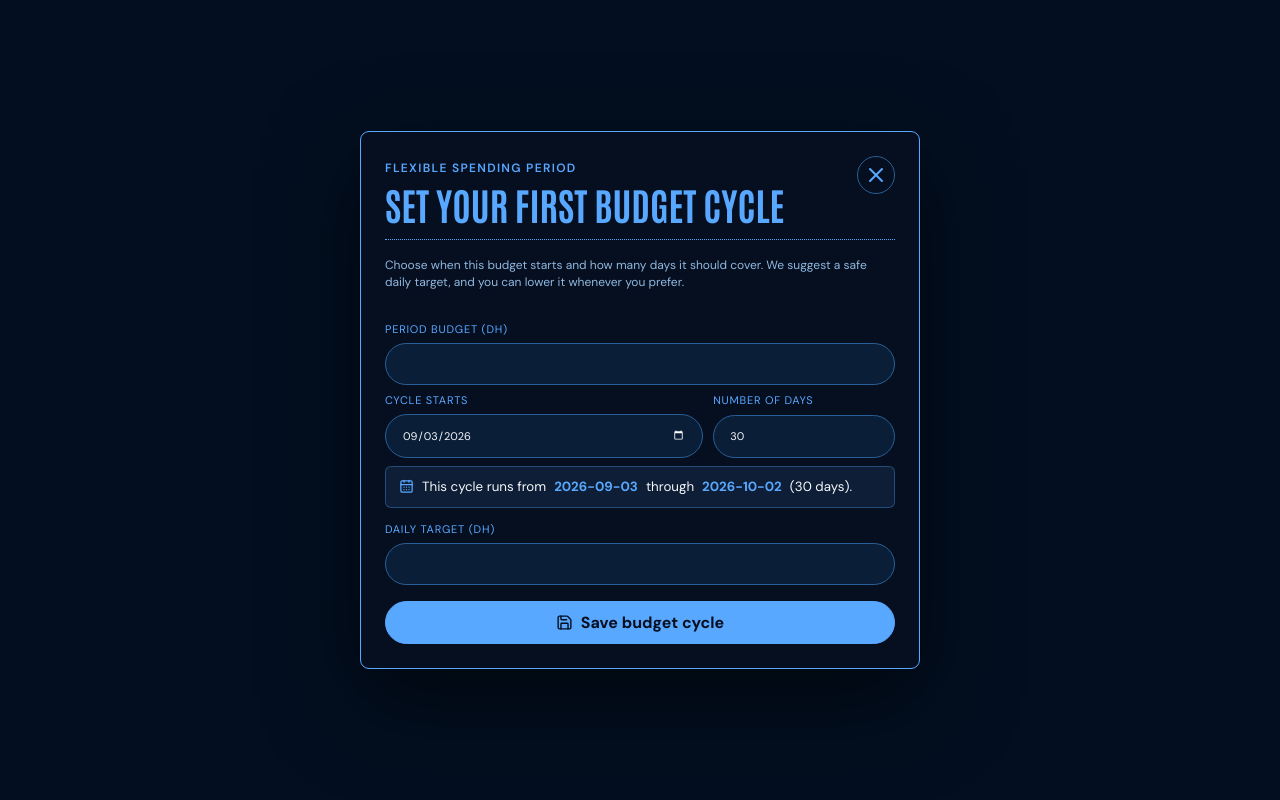
Scenario: budget cycle editor › suggests a safe daily target and blocks a target above the period budget
In the field labelled "Period budget (DH)": (640, 364) 385,343 -> 895,385, type "3000"
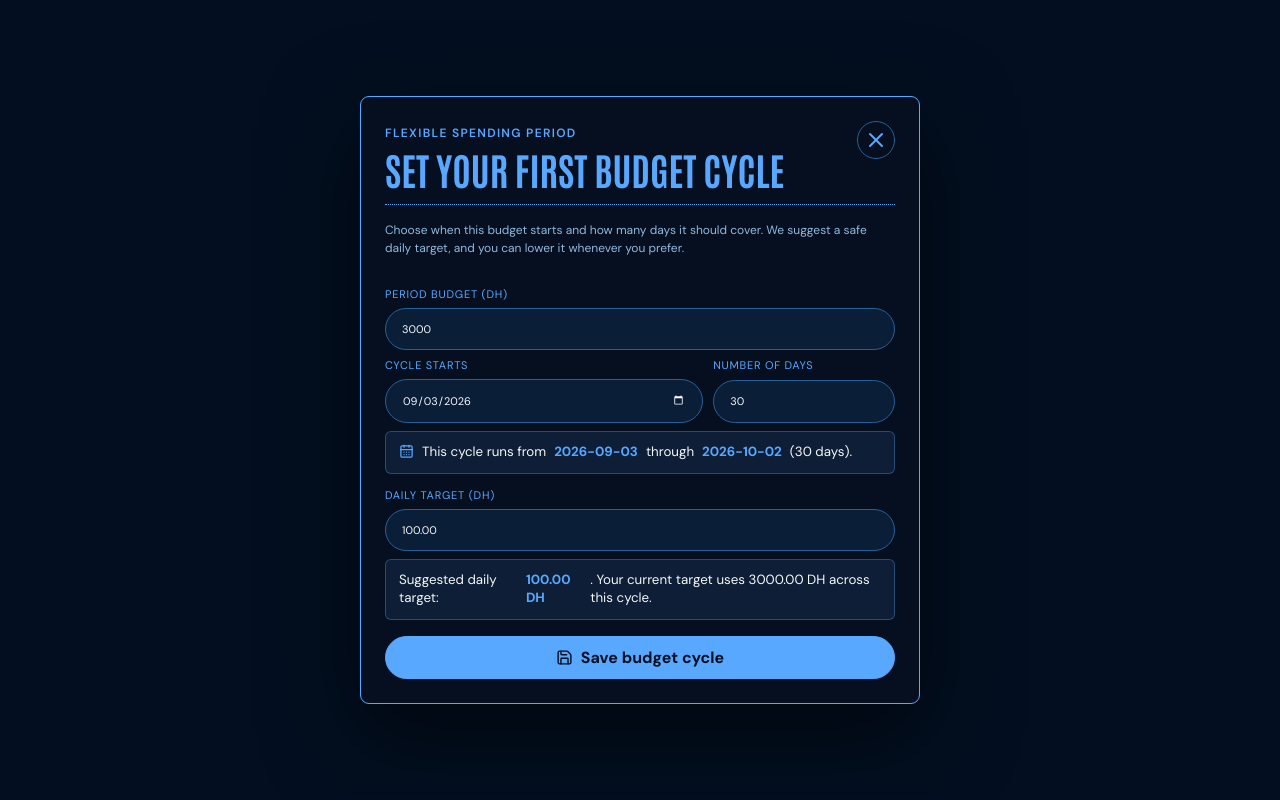
Now the field labelled "Daily target (DH)" holds "100.00"
Replace the text in the field labelled "Daily target (DH)" with "120": (640, 530) 385,509 -> 895,551
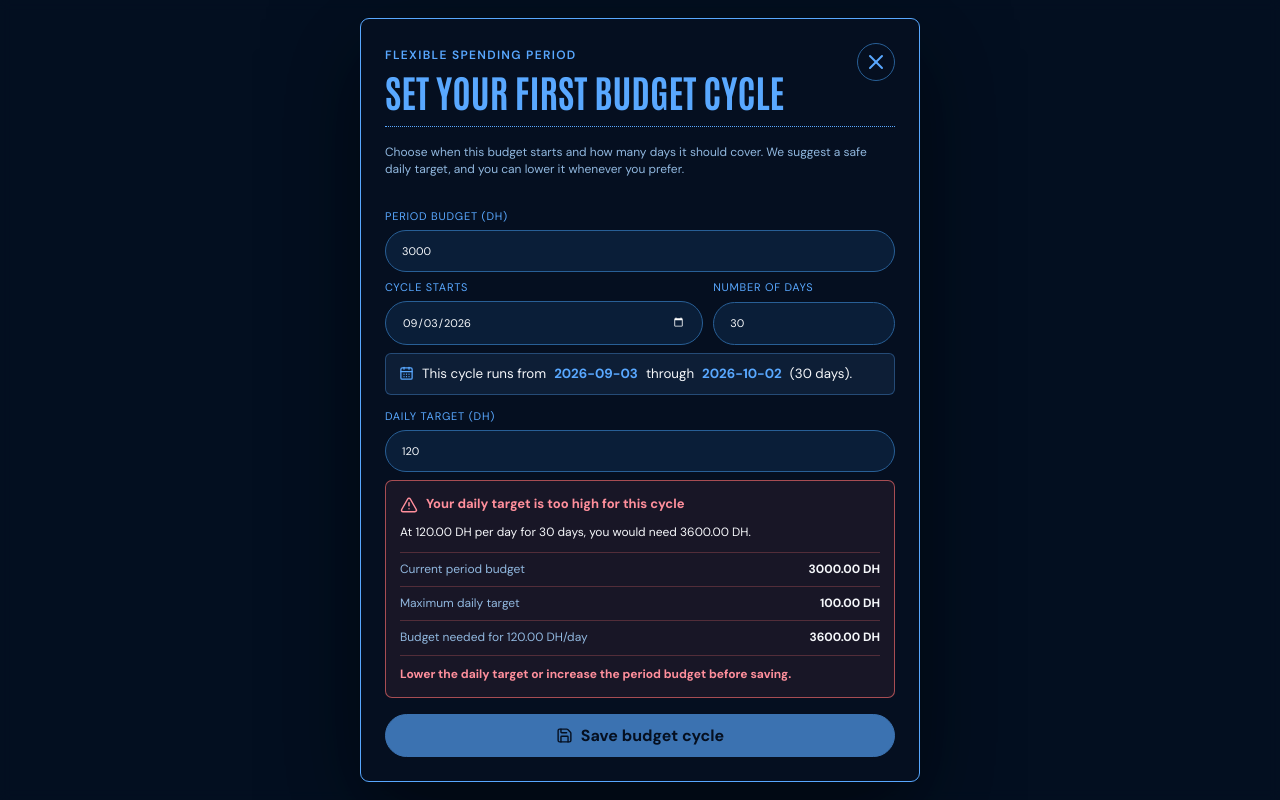
Now the message shows "Current period budget 3000.00 DH", box 385,480 -> 895,698
Now the message shows "Maximum daily target 100.00 DH", box 385,480 -> 895,698
Now the message shows "Budget needed for 120.00 DH/day 3600.00 DH", box 385,480 -> 895,698
Replace the text in the field labelled "Daily target (DH)" with "90": (640, 451) 385,430 -> 895,472
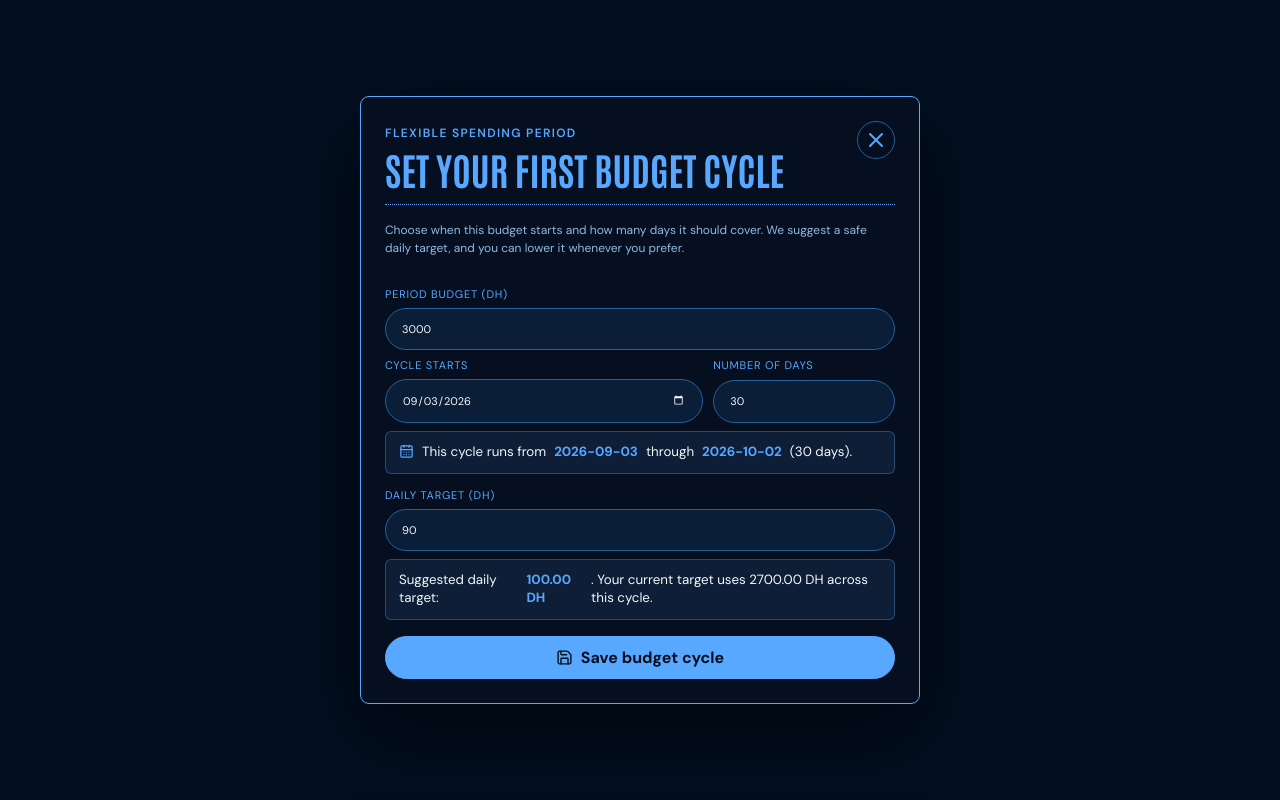
Now the button "Save budget cycle" is enabled, box 385,636 -> 895,679
